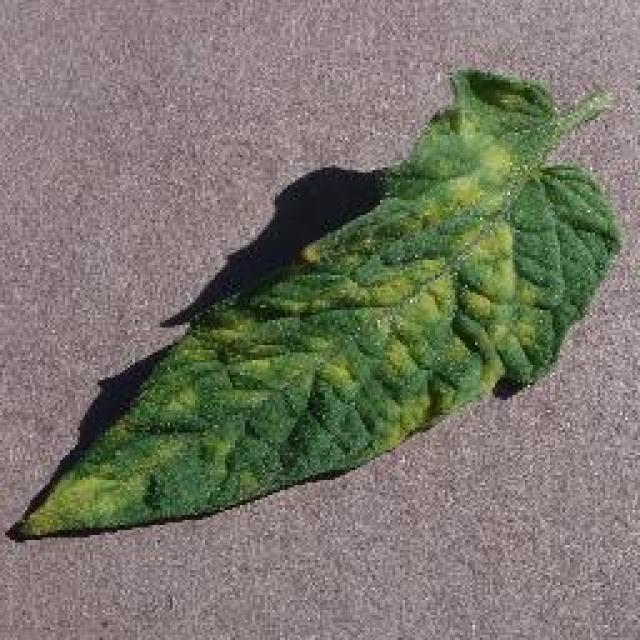Tomato___Leaf_Mold: (12, 70, 620, 535)
